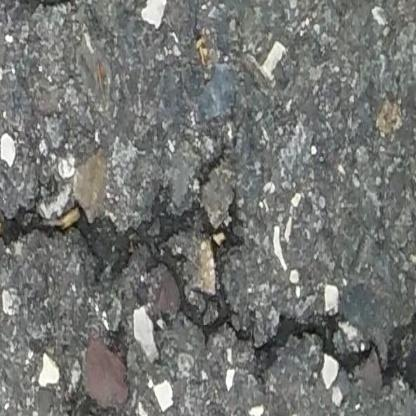Cracks: (0, 155, 416, 408), (8, 0, 85, 18)
